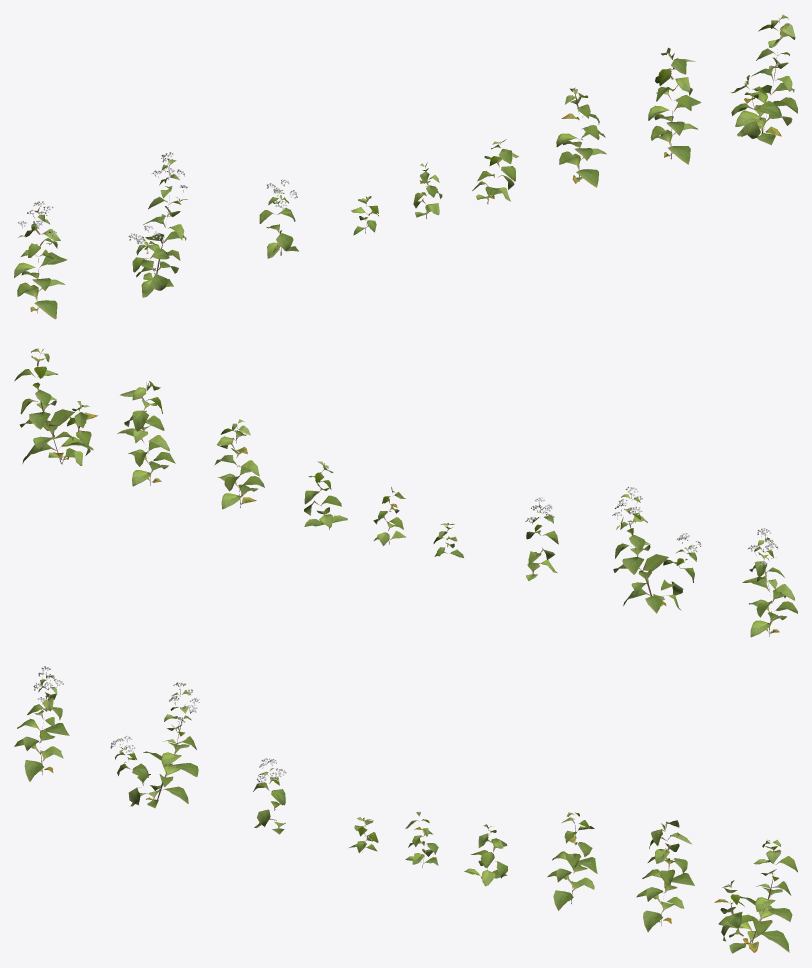
The model's file is shrub_01.glb.
3 renders of one model, top to bottom at view 1: azimuth 30°, elevation 25°; view 2: azimuth 150°, elevation 25°; view 3: azimuth 330°, elevation 25°, orthographic. The views are drawn at different scales.
Visible parts, largest first — view 1: shrub_01_a; view 2: shrub_01_a; view 3: shrub_01_a.
Boxes of the visible parts, x1,y1,x2,y2 form: shrub_01_a: (14,14,797,319); shrub_01_a: (14,348,797,637); shrub_01_a: (14,666,797,953).
Bounding box in the file's own units: 2.59 × 0.3954 × 0.2174.
Materials: 1 (1 with a texture image).
